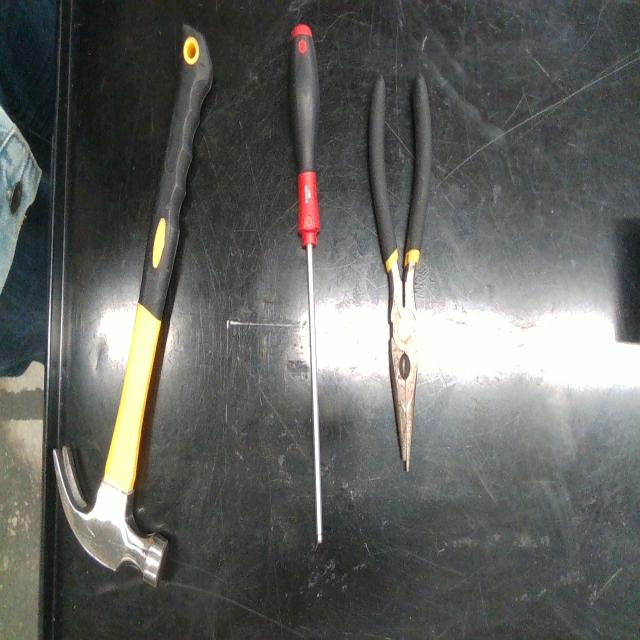Screwdriver: (289, 24, 322, 544)
